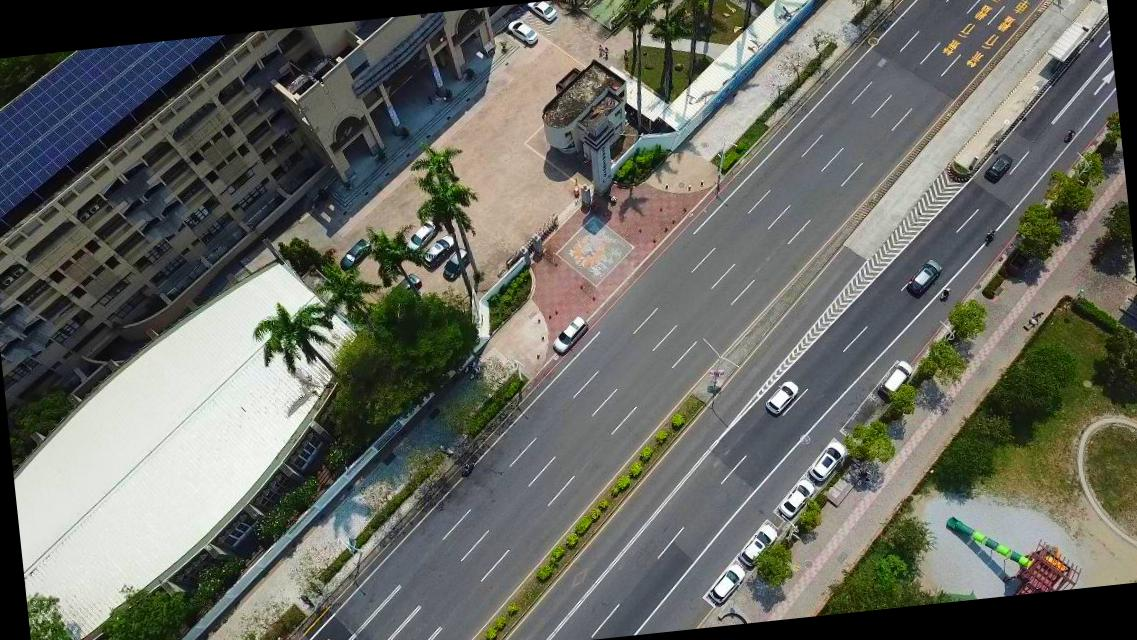vehicle: (741, 520, 780, 570), (806, 438, 847, 485), (906, 254, 946, 300), (550, 314, 592, 356), (706, 564, 744, 610), (777, 478, 817, 519), (877, 356, 916, 398), (420, 234, 458, 270), (766, 380, 800, 416), (402, 220, 436, 254), (439, 246, 471, 282), (338, 238, 372, 270), (506, 18, 540, 50), (983, 152, 1014, 184), (525, 1, 559, 27)
